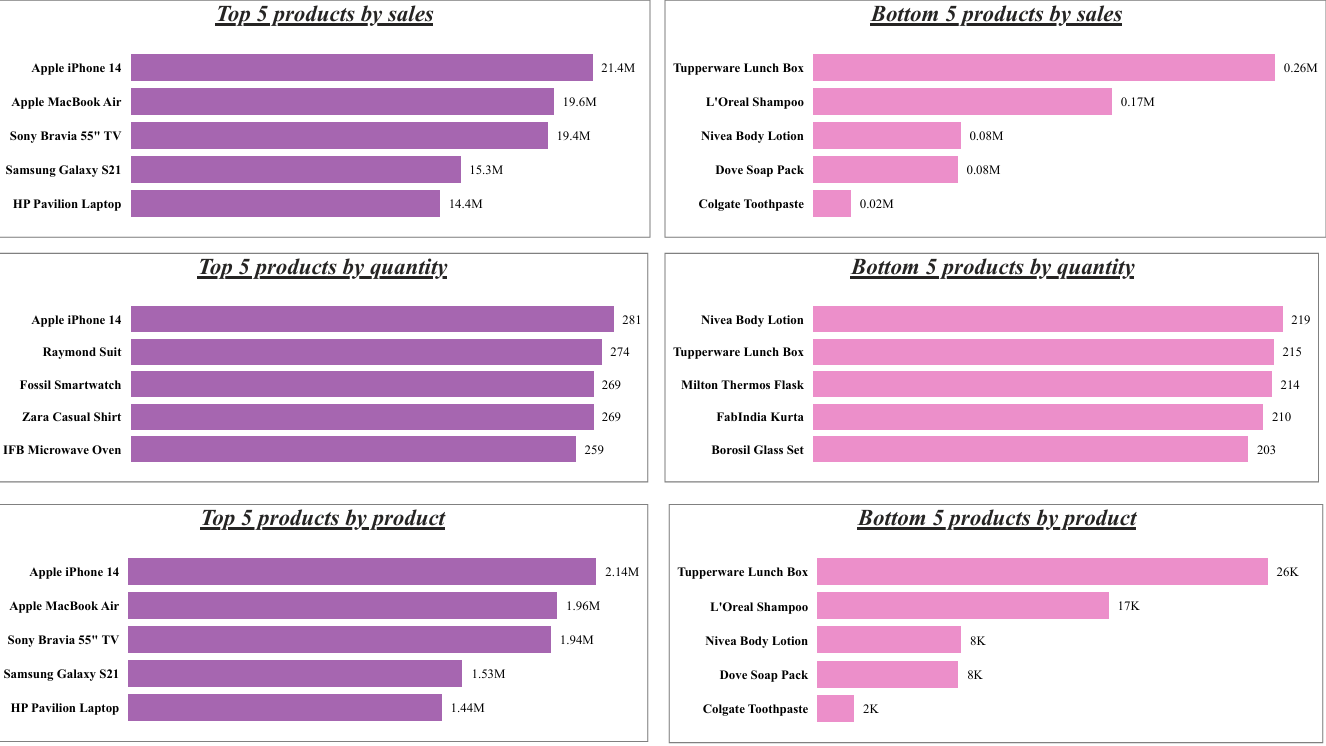

What the dashboard file says about the page in this screenshot:
{"tool":"powerbi","page":{"name":"Top/Bottom 5 analysis","canvas":[1280,720],"ordinal":0},"visuals":[{"type":"barChart","title":"Top 5 products by sales","fields":{"Category":["Dim Product.Product Name"],"Y":["Sum(Fact Table.Net Sales  )"]},"box":[16.6,11.6,609.6,222],"z":0},{"type":"barChart","title":"Bottom 5 products by sales","fields":{"Category":["Dim Product.Product Name"],"Y":["Sum(Fact Table.Net Sales  )"]},"box":[639.4,11.6,616.2,222],"z":1000},{"type":"barChart","title":"Top 5 products by quantity","fields":{"Category":["Dim Product.Product Name"],"Y":["Sum(Fact Table.Units Sold)"]},"box":[14.9,248.5,609.6,213.7],"z":2000},{"type":"barChart","title":"Top 5 products by product","fields":{"Category":["Dim Product.Product Name"],"Y":["Sum(Fact Table.Profit)"]},"box":[14.9,482,609.6,222],"z":3000},{"type":"barChart","title":"Bottom 5 products by quantity","fields":{"Category":["Dim Product.Product Name"],"Y":["Sum(Fact Table.Units Sold)"]},"box":[639.4,248.5,609.6,213.7],"z":4000},{"type":"barChart","title":"Bottom 5 products by product","fields":{"Category":["Dim Product.Product Name"],"Y":["Sum(Fact Table.Profit)"]},"box":[642.5,481.9,610.4,223],"z":5000}]}

Visuals, with their boxes in screenshot pixels (x1, y1, x2, y2), scaled from the page's 1280x720 canvas onto the 1326x746 screenshot:
"Top 5 products by sales" barChart: <box>17,12,649,242</box>
"Bottom 5 products by sales" barChart: <box>662,12,1301,242</box>
"Top 5 products by quantity" barChart: <box>15,257,647,479</box>
"Top 5 products by product" barChart: <box>15,499,647,729</box>
"Bottom 5 products by quantity" barChart: <box>662,257,1294,479</box>
"Bottom 5 products by product" barChart: <box>666,499,1298,730</box>
